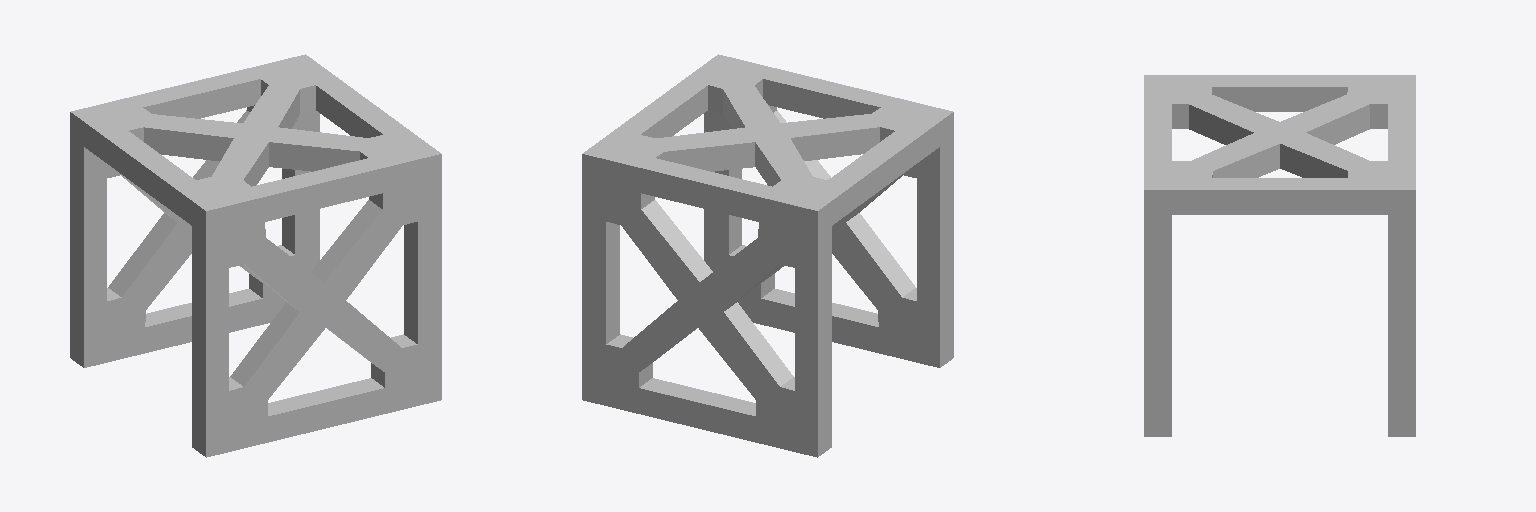
The model's file is crane.obj.
3 views of the same model, side by side, from view 1: azimuth 30°, elevation 25°; view 2: azimuth 150°, elevation 25°; view 3: azimuth 270°, elevation 25° (orthographic).
Visible parts, largest first — view 1: Cube; view 2: Cube; view 3: Cube.
Part boxes in pixels (left/top/right/bottom): Cube: left=70, top=54, right=441, bottom=457; Cube: left=582, top=54, right=953, bottom=457; Cube: left=1144, top=75, right=1415, bottom=436.
Bounding box in the file's own units: 128 × 128 × 128.